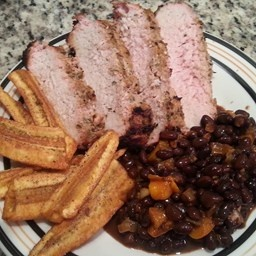background: (0, 0, 102, 102)
